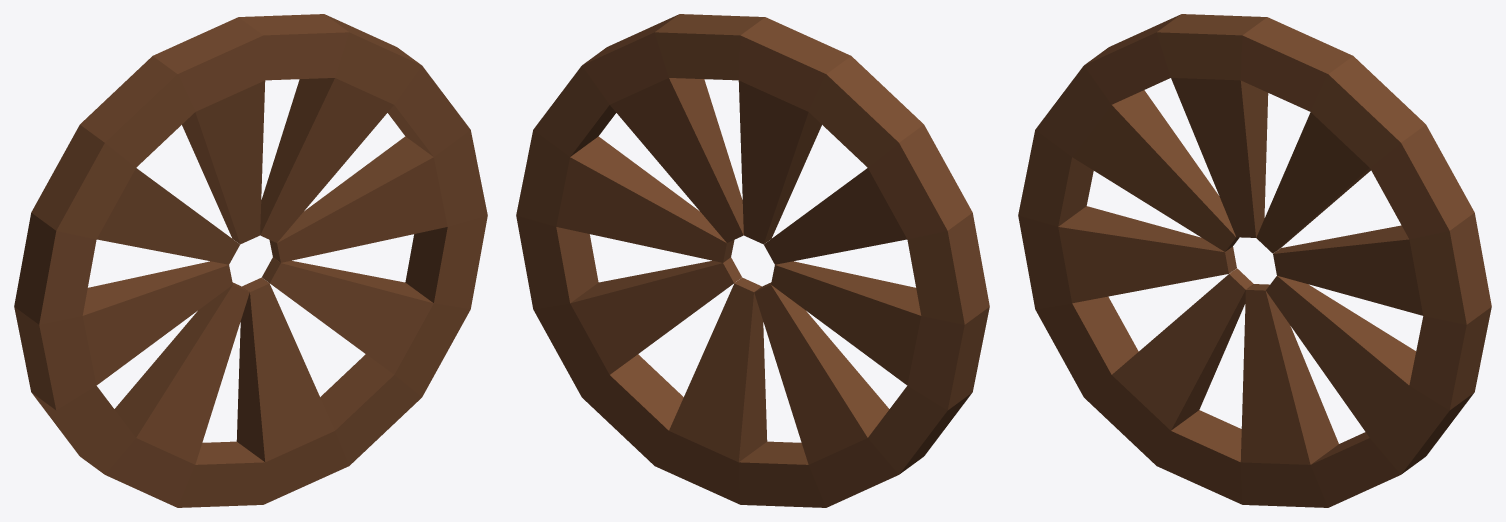
The model's file is WoodWheel.fbx.
3 renders of one model, left to right at view 1: azimuth 30°, elevation 25°; view 2: azimuth 150°, elevation 25°; view 3: azimuth 330°, elevation 25°, orthographic.
Parts seen in each view (by area): view 1: Cylinder.001; view 2: Cylinder.001; view 3: Cylinder.001.
Part boxes in pixels (left/top/right/bottom): Cylinder.001: left=14, top=14, right=487, bottom=507; Cylinder.001: left=516, top=14, right=989, bottom=507; Cylinder.001: left=1018, top=14, right=1491, bottom=507.
Bounding box in the file's own units: 35.21 × 35.21 × 3.87.
